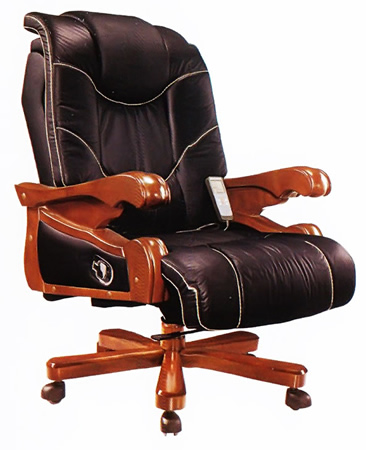chairs: (14, 10, 356, 440)
